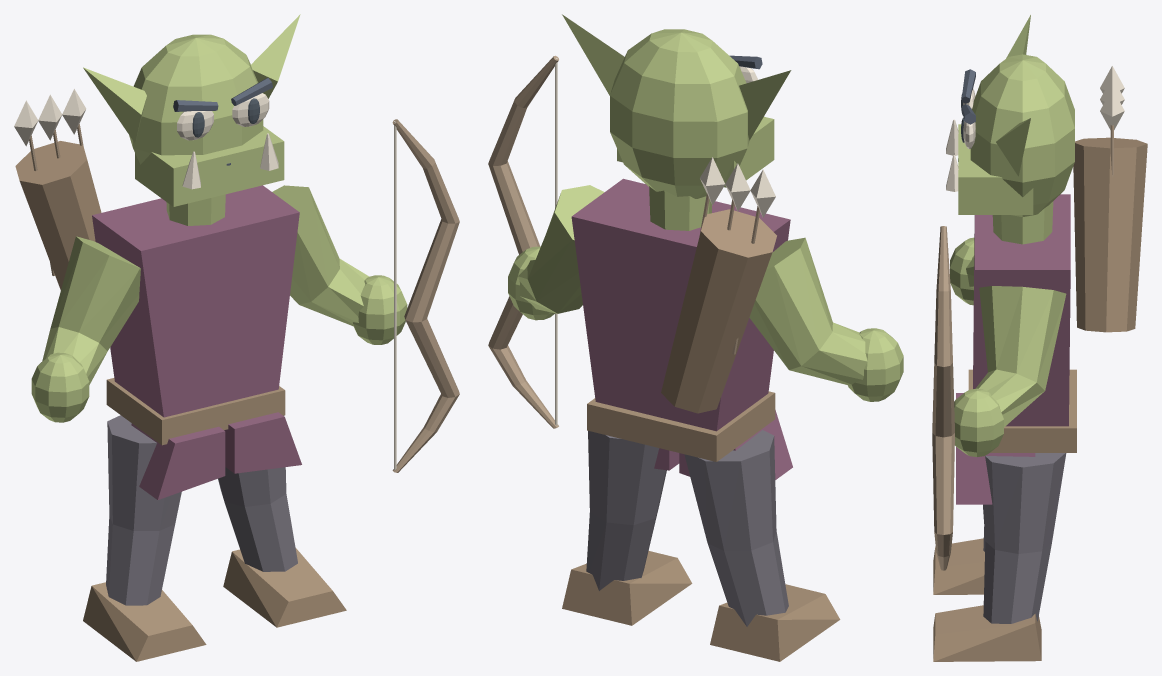
The model's file is archer.glb.
3 views of the same model, side by side, from view 1: azimuth 30°, elevation 25°; view 2: azimuth 150°, elevation 25°; view 3: azimuth 270°, elevation 25° (orthographic). The views are drawn at different scales.
Parts seen in each view (by area): view 1: torso, head, leg_-1, arm_-1, quiver, bow, arm_1, jaw, leg_1, foot_-1, foot_1, belt (+10 smaller); view 2: torso, head, quiver, leg_-1, arm_-1, leg_1, belt, bow, foot_-1, foot_1, arm_1, hand_-1 (+10 smaller); view 3: quiver, head, leg_1, torso, arm_1, bow, foot_1, jaw, hand_1, belt, foot_-1, tunic_hem_1 (+8 smaller).
Part boxes in pixels (bbox=[...]): torso: bbox=[92, 185, 299, 417]; head: bbox=[129, 34, 263, 164]; leg_-1: bbox=[106, 415, 181, 605]; arm_-1: bbox=[42, 236, 140, 384]; quiver: bbox=[15, 141, 101, 290]; bow: bbox=[392, 119, 459, 472]; arm_1: bbox=[272, 185, 368, 326]; jaw: bbox=[135, 126, 284, 206]; leg_1: bbox=[218, 415, 297, 571]; foot_-1: bbox=[83, 582, 206, 661]; foot_1: bbox=[223, 548, 346, 627]; belt: bbox=[106, 378, 285, 445]; torso: bbox=[571, 178, 790, 431]; head: bbox=[610, 29, 749, 198]; quiver: bbox=[661, 209, 776, 413]; leg_-1: bbox=[684, 430, 788, 626]; arm_-1: bbox=[749, 237, 867, 385]; leg_1: bbox=[586, 431, 666, 590]; belt: bbox=[587, 391, 775, 461]; bow: bbox=[488, 55, 558, 428]; foot_-1: bbox=[710, 584, 840, 661]; foot_1: bbox=[562, 551, 692, 625]; arm_1: bbox=[518, 185, 604, 313]; hand_-1: bbox=[848, 328, 903, 401]; quiver: bbox=[1073, 137, 1147, 332]; head: bbox=[970, 54, 1074, 216]; leg_1: bbox=[983, 453, 1066, 623]; torso: bbox=[973, 194, 1070, 426]; arm_1: bbox=[975, 286, 1066, 427]; bow: bbox=[932, 226, 954, 570]; foot_1: bbox=[933, 605, 1041, 661]; jaw: bbox=[958, 124, 1033, 214]; hand_1: bbox=[954, 388, 1003, 456]; belt: bbox=[968, 369, 1076, 452]; foot_-1: bbox=[933, 538, 984, 594]; tunic_hem_1: bbox=[956, 447, 1035, 504].
Bounding box in the file's own units: 1.58 × 2.1 × 0.7439.
